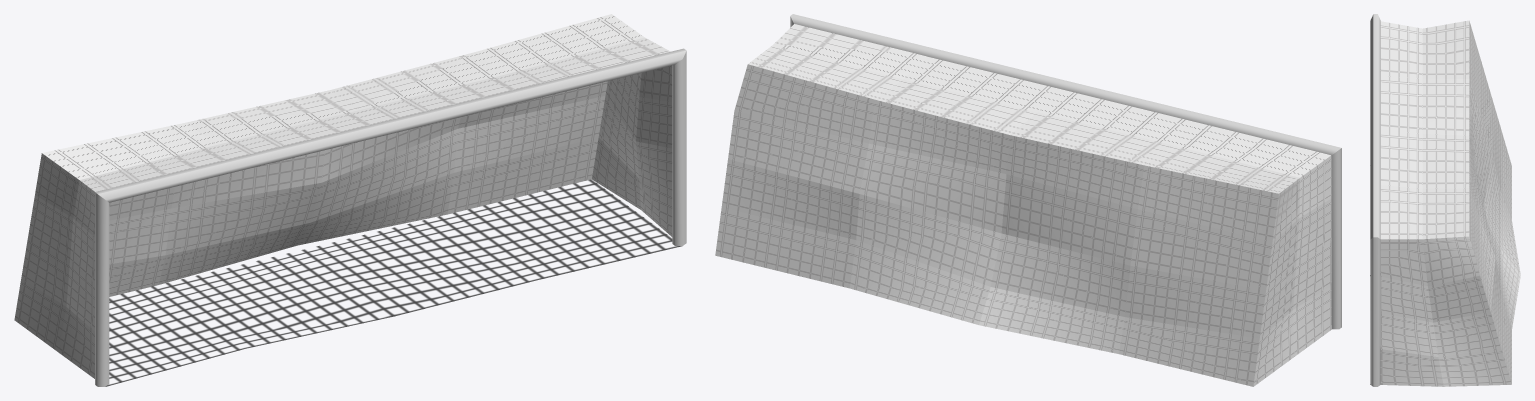
File: kapu.glb
3 views of the same model, side by side, from view 1: azimuth 30°, elevation 25°; view 2: azimuth 150°, elevation 25°; view 3: azimuth 270°, elevation 25° (orthographic). The views are drawn at different scales.
Visible parts, largest first — view 1: net.001, net, goal_shadow, goal; view 2: net, goal; view 3: net, goal.
Part boxes in pixels (x1=…): net.001: x1=109, y1=65, x2=672, y2=296; net: x1=14, y1=14, x2=670, y2=378; goal_shadow: x1=106, y1=179, x2=681, y2=386; goal: x1=95, y1=48, x2=686, y2=386; net: x1=715, y1=24, x2=1331, y2=386; goal: x1=790, y1=14, x2=1341, y2=329; net: x1=1380, y1=20, x2=1520, y2=386; goal: x1=1370, y1=14, x2=1380, y2=386.
Size of what is drawn, in the model's own units: 12.24 by 3.83 by 3.49.
Materials: 2 (2 with a texture image).
